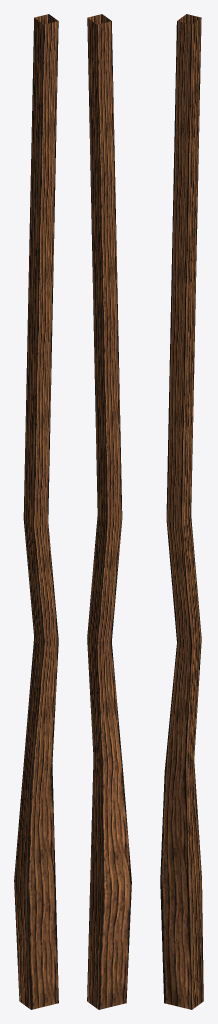
File: LAKETOWN_PUB_PS_PUB_CEILING_POLE023938.fbx
The picture shows the model from 3 angles, left to right: view 1: azimuth 30°, elevation 25°; view 2: azimuth 210°, elevation 25°; view 3: azimuth 330°, elevation 25°; orthographic projection.
Parts seen in each view (by area): view 1: LAKETOWN_PUB_PS_PUB_CEILING_POLE023938; view 2: LAKETOWN_PUB_PS_PUB_CEILING_POLE023938; view 3: LAKETOWN_PUB_PS_PUB_CEILING_POLE023938.
Part boxes in pixels (bbox=[...]): LAKETOWN_PUB_PS_PUB_CEILING_POLE023938: bbox=[14, 14, 58, 1009]; LAKETOWN_PUB_PS_PUB_CEILING_POLE023938: bbox=[87, 14, 131, 1009]; LAKETOWN_PUB_PS_PUB_CEILING_POLE023938: bbox=[160, 14, 203, 1009].
Size of the model in its own units: 3065 by 90875 by 2208.
Materials: 1 (1 with a texture image).
